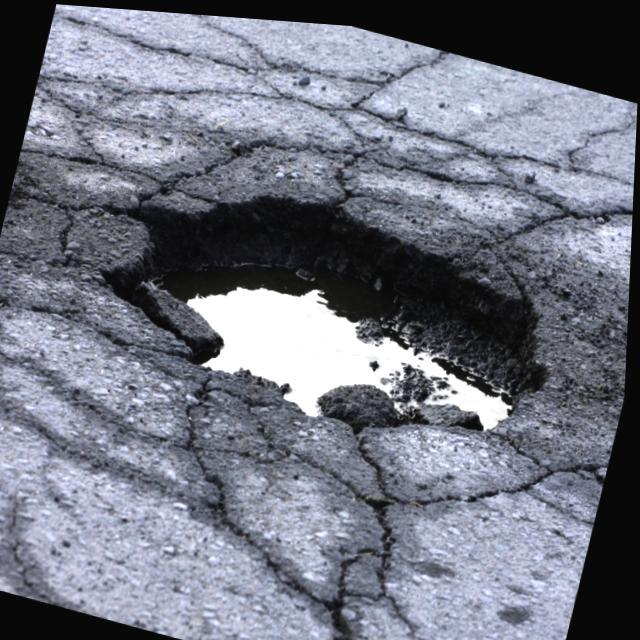pothole: (90, 135, 584, 476)
